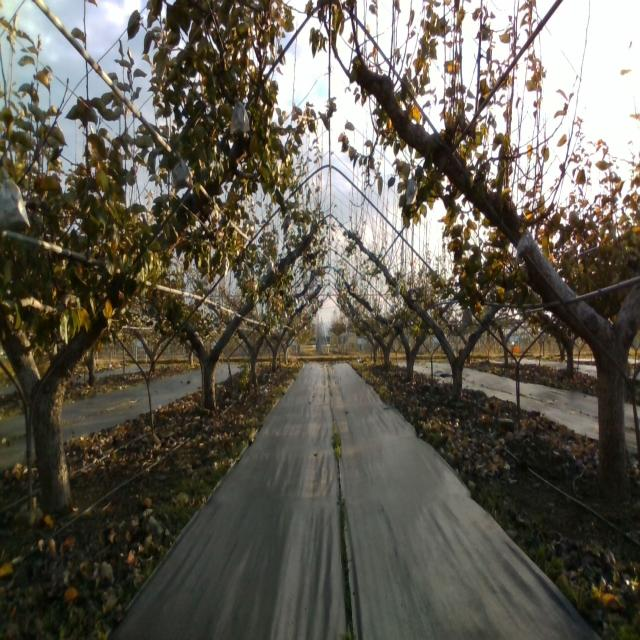pearbags: (0, 168, 31, 235), (230, 94, 250, 134), (172, 152, 193, 190), (515, 233, 532, 265), (405, 171, 418, 205), (462, 302, 476, 329), (266, 255, 276, 274)
